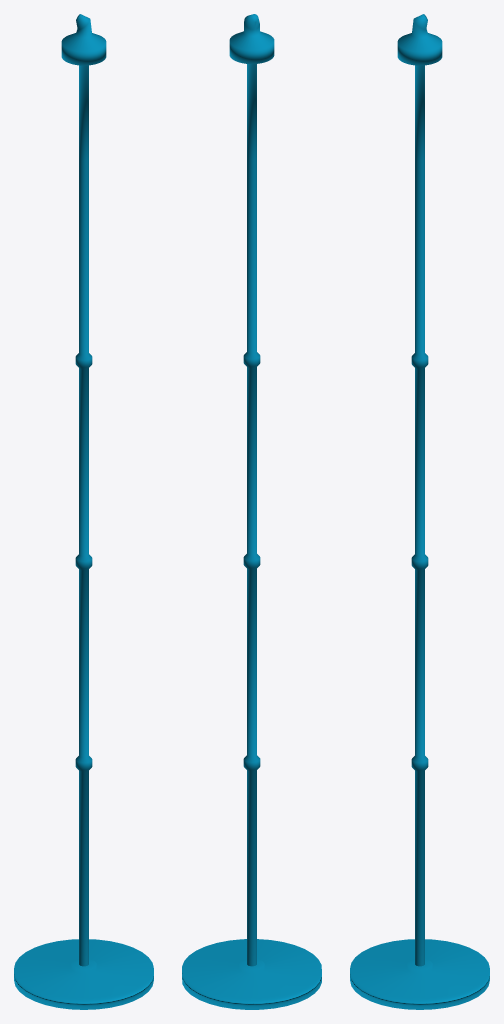
File: DS-KR__b10.96f94bcb.glb
3 renders of one model, left to right at view 1: azimuth 90°, elevation 25°; view 2: azimuth 210°, elevation 25°; view 3: azimuth 270°, elevation 25°, orthographic.
Visible parts, largest first — view 1: Cylinder014,_colorize_.001, Cylinder015,_colorize_.001; view 2: Cylinder014,_colorize_.001, Cylinder015,_colorize_.001; view 3: Cylinder014,_colorize_.001, Cylinder015,_colorize_.001.
Part boxes in pixels (<box>): Cylinder014,_colorize_.001: <box>61,14,106,966</box>; Cylinder015,_colorize_.001: <box>14,939,153,1009</box>; Cylinder014,_colorize_.001: <box>229,14,274,966</box>; Cylinder015,_colorize_.001: <box>182,939,321,1009</box>; Cylinder014,_colorize_.001: <box>397,14,442,966</box>; Cylinder015,_colorize_.001: <box>350,939,489,1009</box>.
Size of the model in its own units: 0.2972 by 2.26 by 0.2972.
